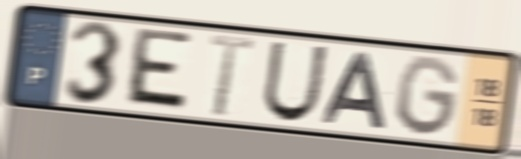3: (62, 19, 126, 108)
A: (319, 51, 390, 133)
E: (121, 25, 195, 116)
G: (394, 53, 462, 140)
T: (207, 31, 257, 120)
U: (260, 38, 331, 125)
